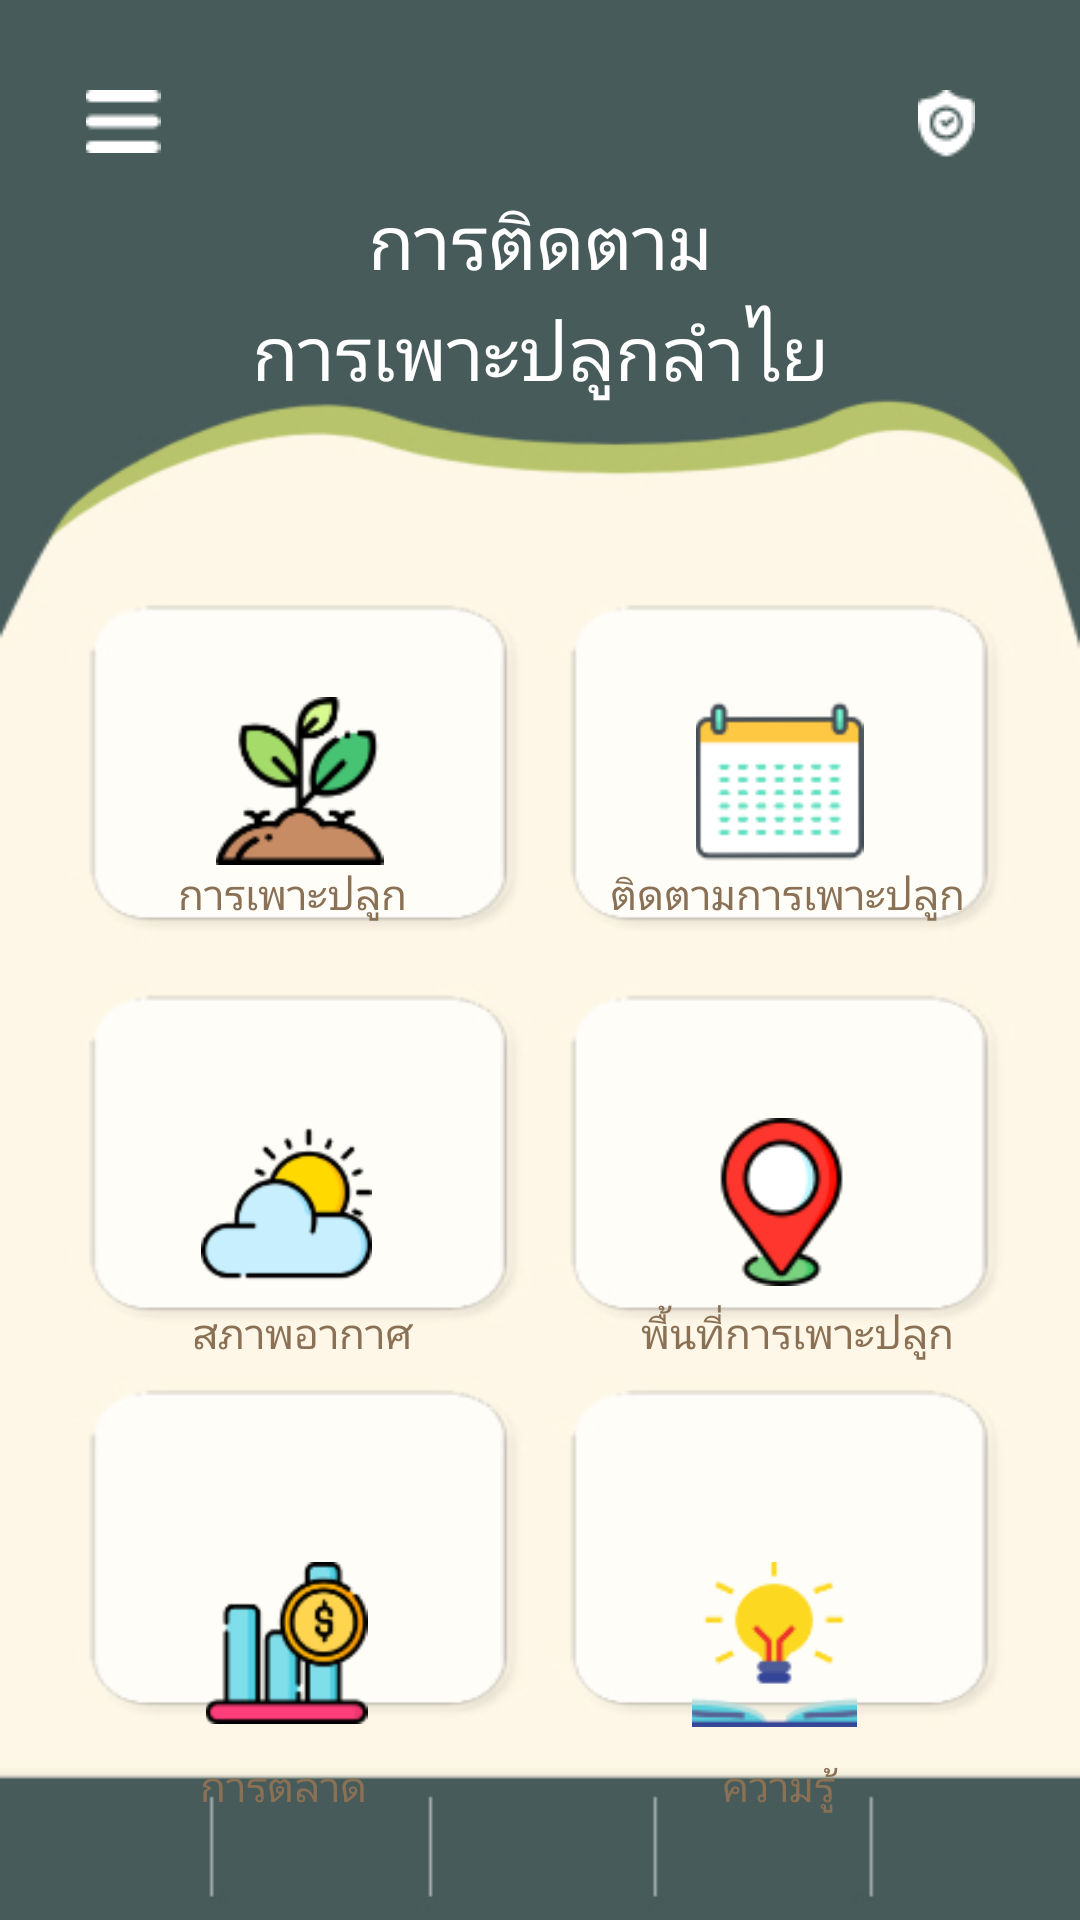

Icons on this 1080x1920 Android screen, each with its box as box(x1, y1, x2, y2):
calendar: box(696, 702, 864, 860)
menusymbol: box(86, 90, 161, 153)
sun: box(201, 1128, 372, 1279)
